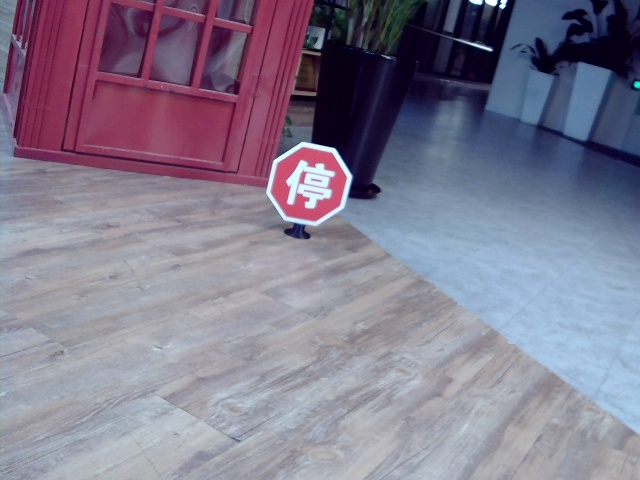stop: (284, 157, 332, 207)
